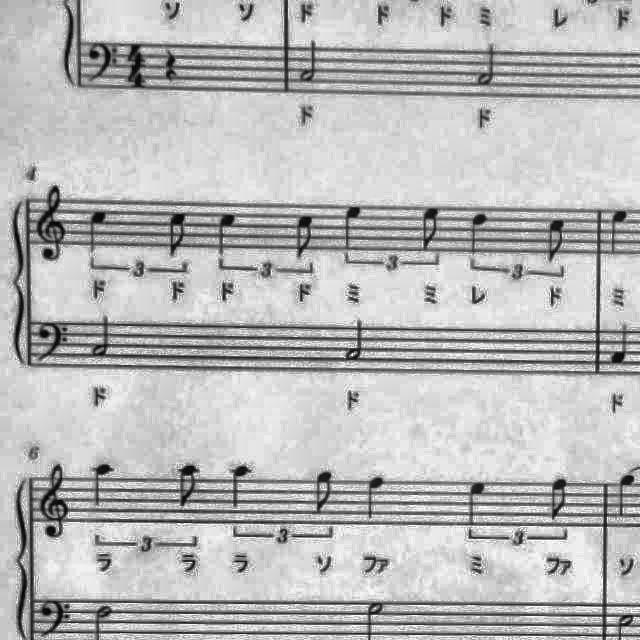Bass-clef: (34, 317, 76, 369), (80, 39, 120, 90), (34, 595, 74, 640)
Eighth-note: (170, 458, 206, 514), (162, 206, 194, 262), (413, 204, 447, 256), (541, 216, 573, 268), (290, 211, 322, 263), (544, 472, 576, 524), (308, 466, 340, 518)
Half-note: (340, 316, 372, 368), (472, 40, 504, 92), (88, 310, 116, 362), (294, 35, 322, 87)
Quarter-note: (334, 201, 370, 255), (224, 459, 258, 513), (88, 456, 122, 509), (602, 204, 634, 260), (461, 476, 493, 532), (606, 318, 640, 370), (612, 467, 640, 529), (83, 203, 113, 260), (210, 208, 242, 260), (462, 208, 494, 260), (359, 472, 388, 524)
Quarter-rest: (159, 44, 185, 86)
Treble-clef: (34, 178, 74, 266), (38, 458, 78, 542)
